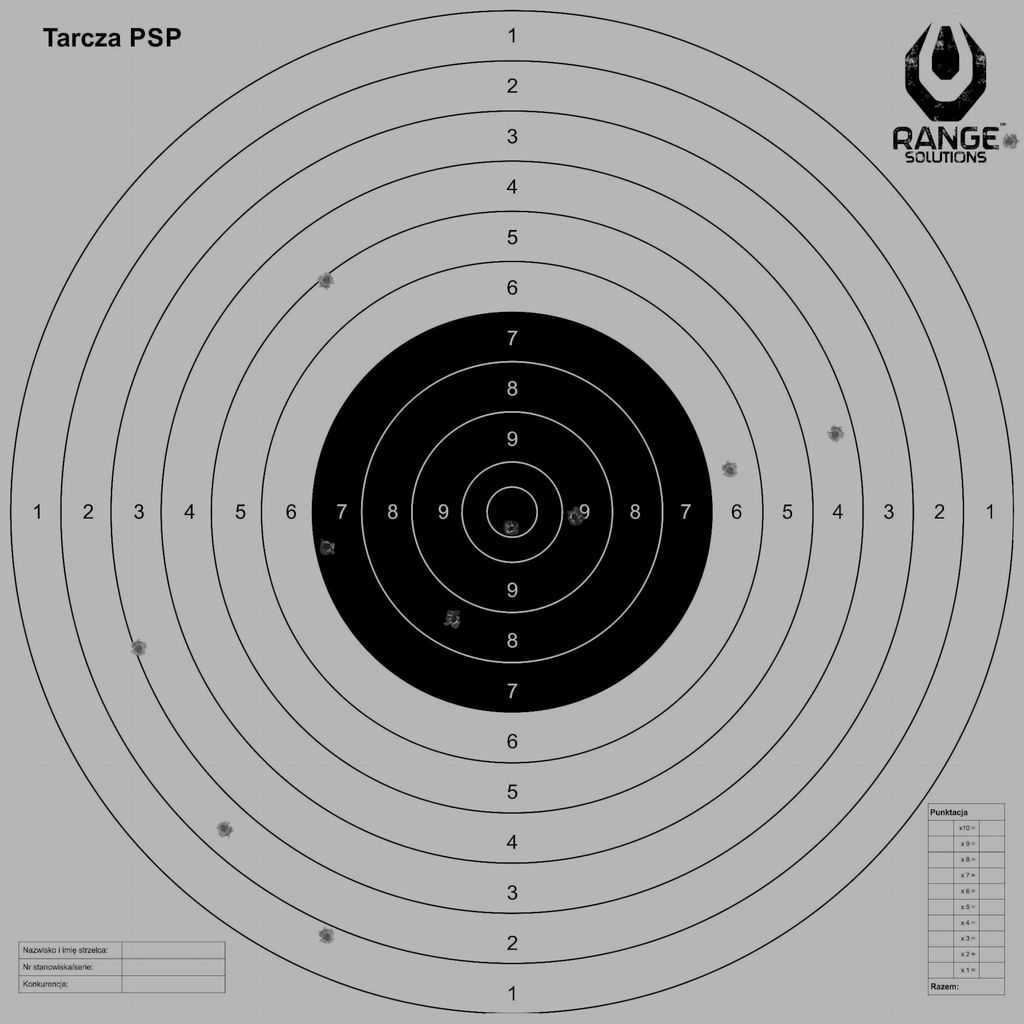0 punktow: (1001, 132, 1019, 151)
1 punkt: (318, 927, 336, 946)
10 punktow: (502, 519, 520, 538)
2 punkty: (215, 820, 234, 838)
3 punkty: (130, 639, 148, 658)
4 punkty: (826, 425, 845, 444)
5 punktow: (317, 271, 335, 290)
6 punktow: (721, 461, 739, 479)
7 punktow: (318, 537, 336, 556)
8 punktow: (444, 609, 463, 628)
9 punktow: (565, 507, 584, 526)
